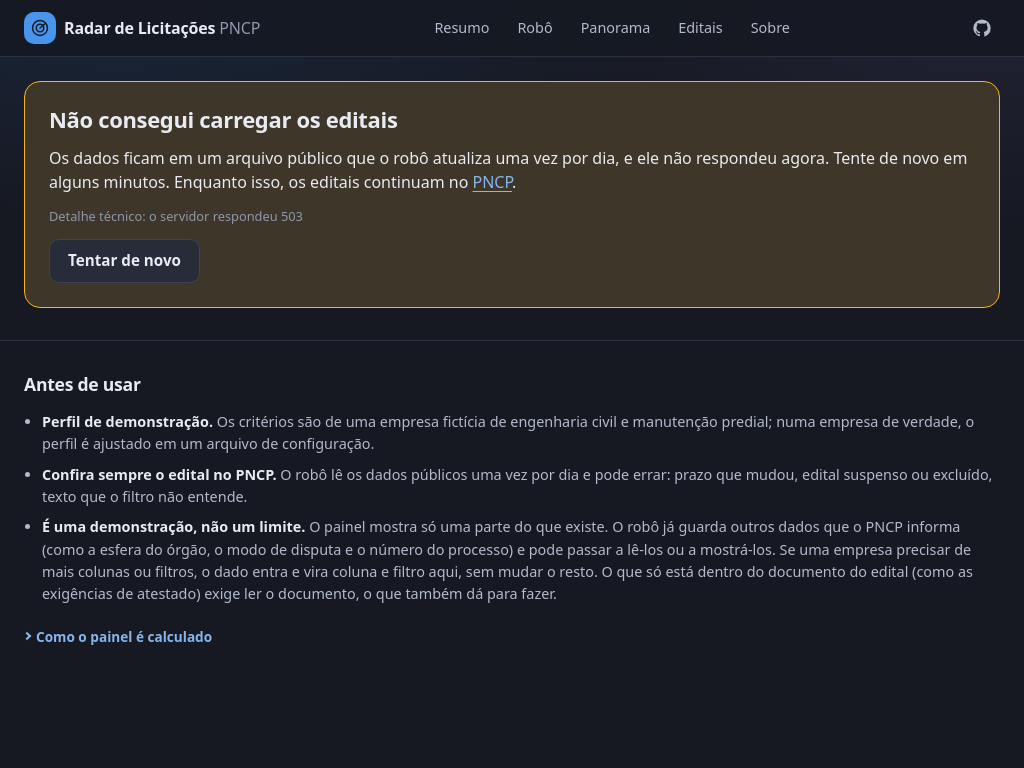
Test case: App › explica o erro e tenta de novo
Expected: the heading "Não consegui carregar os editais" is shown, [49, 106, 398, 134]
Expected: the text "Detalhe técnico: o servidor respondeu 503" is shown, [49, 207, 303, 227]
What coordinates should you click on to do the following:
click the button "Tentar de novo"
I would click on:
 (124, 261)
Its box is [49, 239, 200, 283].
(page scrolled)
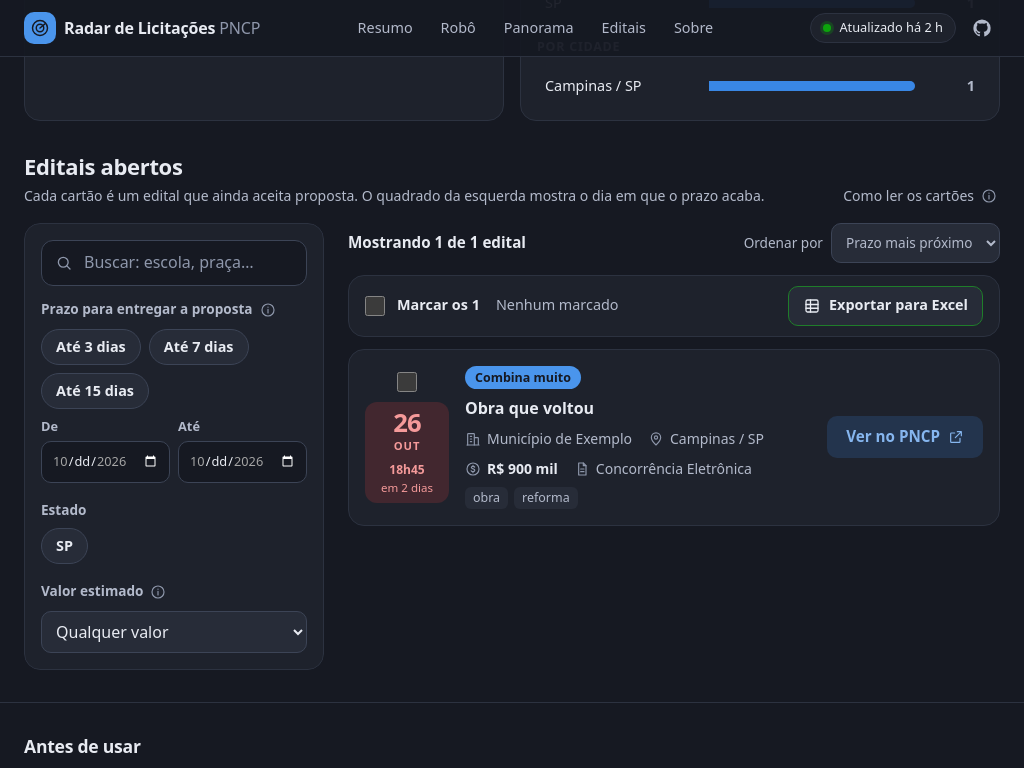
Now the text "Obra que voltou" is shown, box [465, 397, 594, 419]
